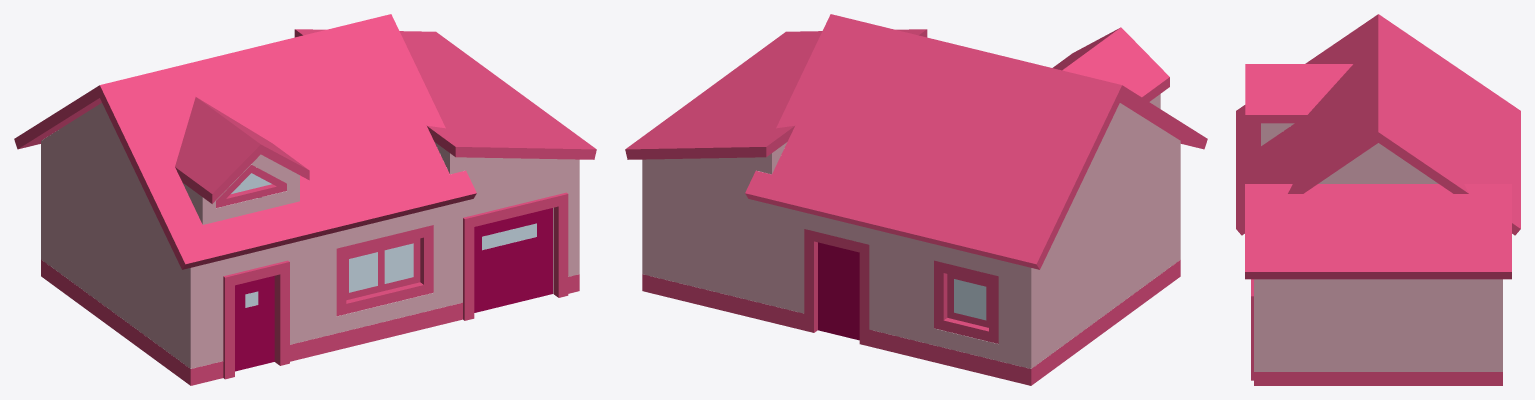
The model's file is crimson_house.gltf.
3 renders of one model, left to right at view 1: azimuth 30°, elevation 25°; view 2: azimuth 150°, elevation 25°; view 3: azimuth 270°, elevation 25°, orthographic. The views are drawn at different scales.
Parts seen in each view (by area): view 1: Mesh_house_type04_3, Mesh_house_type04_4, Mesh_house_type04, Mesh_house_type04_1, Mesh_house_type04_2; view 2: Mesh_house_type04_3, Mesh_house_type04_4, Mesh_house_type04, Mesh_house_type04_1, Mesh_house_type04_2; view 3: Mesh_house_type04_3, Mesh_house_type04_4, Mesh_house_type04.
Part boxes in pixels (<box>): Mesh_house_type04_3: <box>14,14,596,269</box>; Mesh_house_type04_4: <box>41,103,579,368</box>; Mesh_house_type04: <box>41,165,579,385</box>; Mesh_house_type04_1: <box>235,208,552,371</box>; Mesh_house_type04_2: <box>231,173,536,307</box>; Mesh_house_type04_3: <box>625,14,1207,269</box>; Mesh_house_type04_4: <box>642,94,1180,368</box>; Mesh_house_type04: <box>642,229,1180,385</box>; Mesh_house_type04_1: <box>818,242,859,340</box>; Mesh_house_type04_2: <box>954,279,986,320</box>; Mesh_house_type04_3: <box>1236,14,1520,279</box>; Mesh_house_type04_4: <box>1254,123,1502,371</box>; Mesh_house_type04: <box>1251,279,1502,385</box>.
Size of the model in its own units: 1.29 by 0.7376 by 0.9162.
